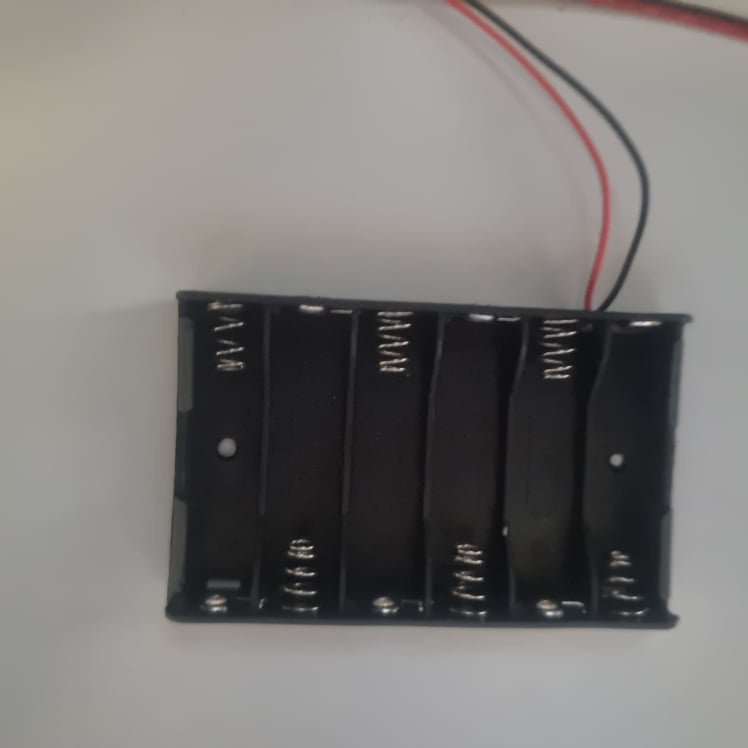BATTERY BOX: (164, 291, 681, 628)
